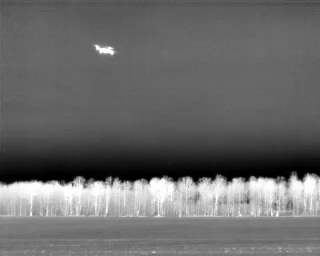DRONE: (91, 40, 119, 60)
